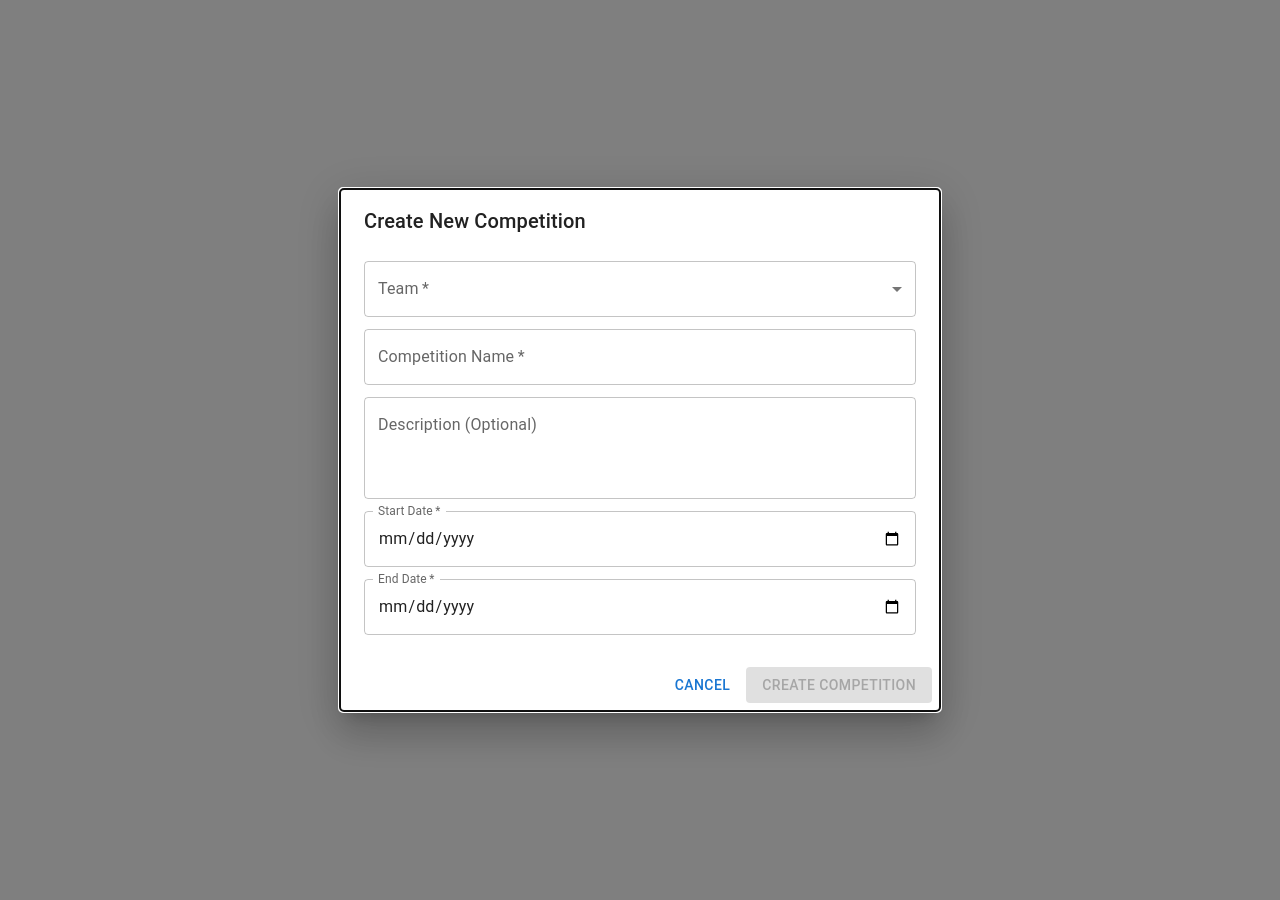
Test: CreateCompetitionModal › validates that end date is after start date
Expected: the heading "Create New Competition" is shown, [364,209,586,233]
Fill in dates with end before start
Type "2024-06-30" into the date field labelled "Start Date *" at (640, 539), box [364,511,916,567]
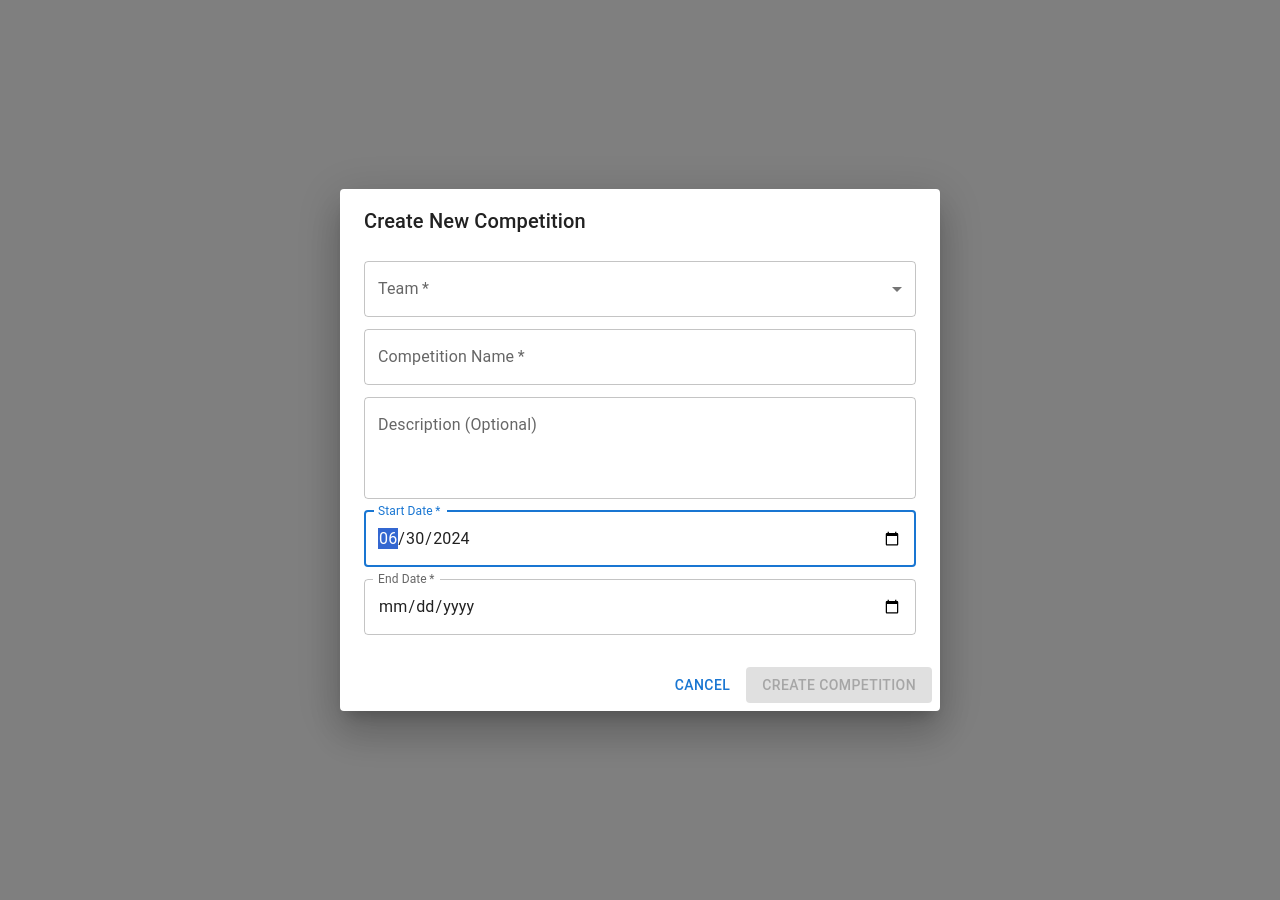
Type "2024-06-01" into the date field labelled "End Date *" at (640, 607), box [364,579,916,635]
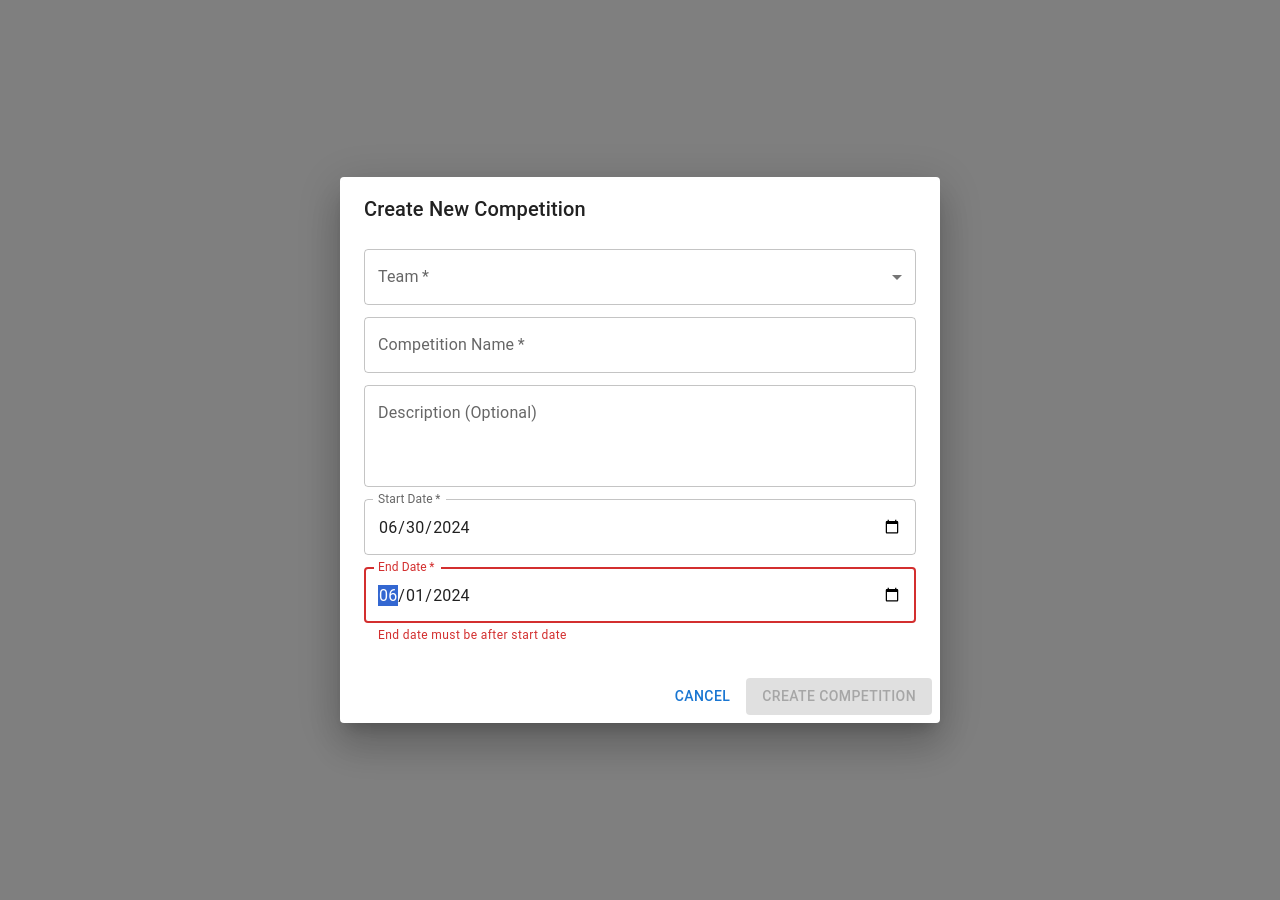
Expected: the button "Create Competition" is disabled, [746,678,932,715]
Result: the text "End date must be after start date" is shown at [378,628,567,642]
